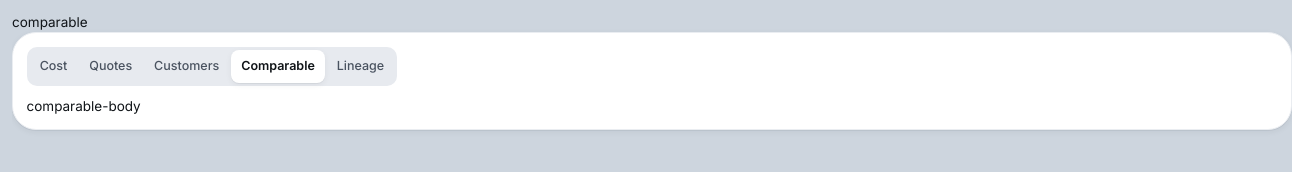
Test: EvidenceTabs › renders the corresponding pane content for the active tab
Expected: the text with test id "pane-body-comparable" reads "comparable-body", [26,98,141,114]
// Switch via click → ensure pane swaps.
Click the tab with test id "evidence-tab-lineage" at (360, 66), box [327,50,394,83]
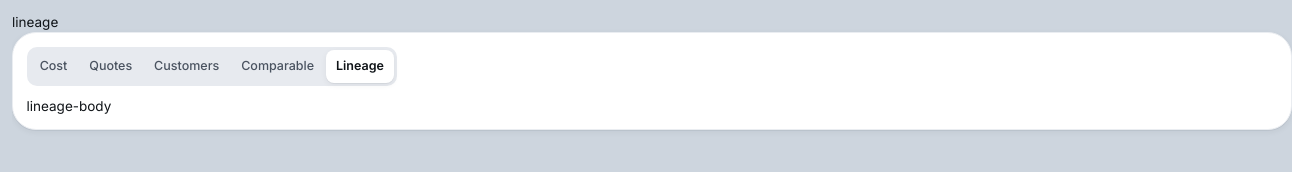
Now the text "lineage-body" is shown, box [26,98,111,114]
Now the text with test id "pane-body-comparable" is gone
